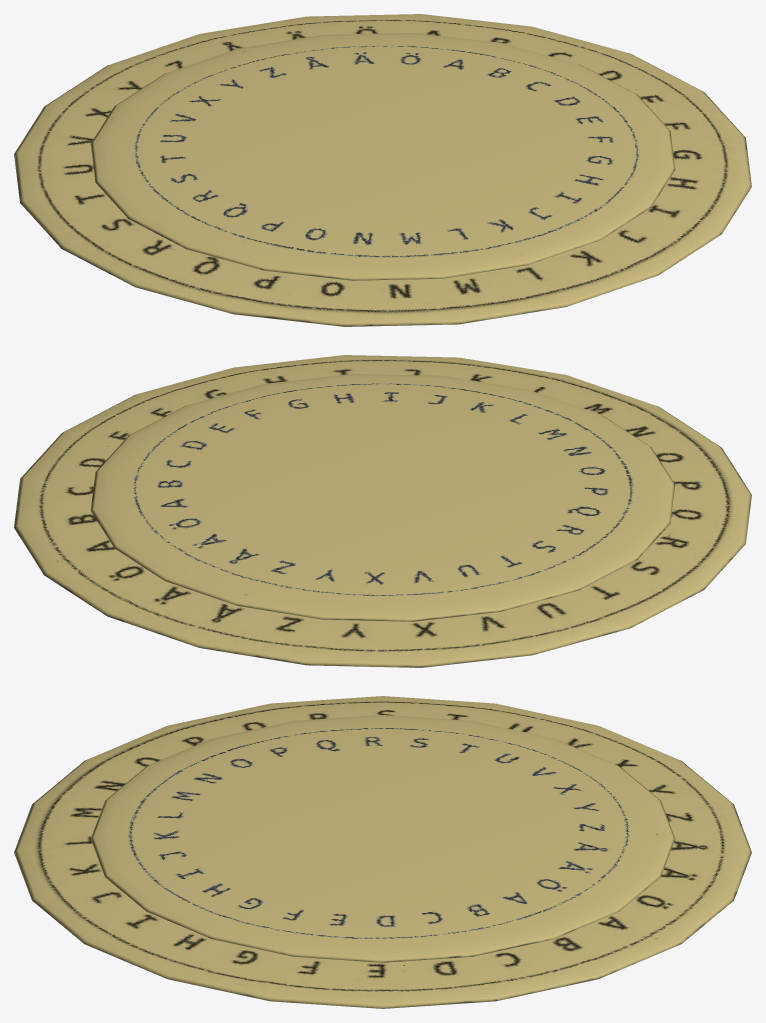
The model's file is Chiffer_lås_1_test_2_Digdig.fbx.
3 renders of one model, top to bottom at view 1: azimuth 30°, elevation 25°; view 2: azimuth 150°, elevation 25°; view 3: azimuth 270°, elevation 25°, orthographic.
Visible parts, largest first — view 1: Ciffer_lås_small, Ciffer_lås_big; view 2: Ciffer_lås_small, Ciffer_lås_big; view 3: Ciffer_lås_small, Ciffer_lås_big.
Boxes of the visible parts, x1,y1,x2,y2 form: Ciffer_lås_small: (90,33,675,280); Ciffer_lås_big: (14,14,751,326); Ciffer_lås_small: (90,374,675,621); Ciffer_lås_big: (14,355,751,667); Ciffer_lås_small: (91,715,674,962); Ciffer_lås_big: (14,696,751,1008).
Size of the model in its own units: 7.04 by 0.4386 by 7.04.
